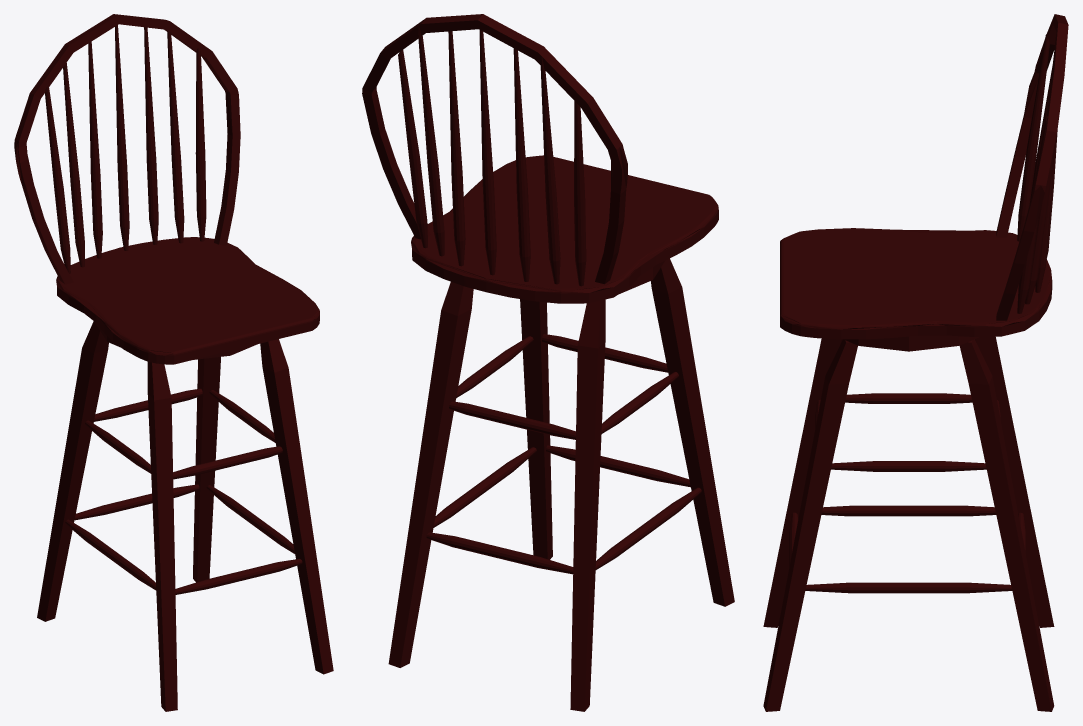
The model's file is Chair.glb.
The picture shows the model from 3 angles, left to right: view 1: azimuth 30°, elevation 25°; view 2: azimuth 150°, elevation 25°; view 3: azimuth 270°, elevation 25°; orthographic projection. The views are drawn at different scales.
Parts seen in each view (by area): view 1: Node; view 2: Node; view 3: Node.
Part boxes in pixels (x1,y1,x2,y2): Node: (14, 14, 333, 711); Node: (362, 14, 734, 711); Node: (763, 14, 1068, 711).
Bounding box in the file's own units: 19.79 × 49.56 × 21.29.
